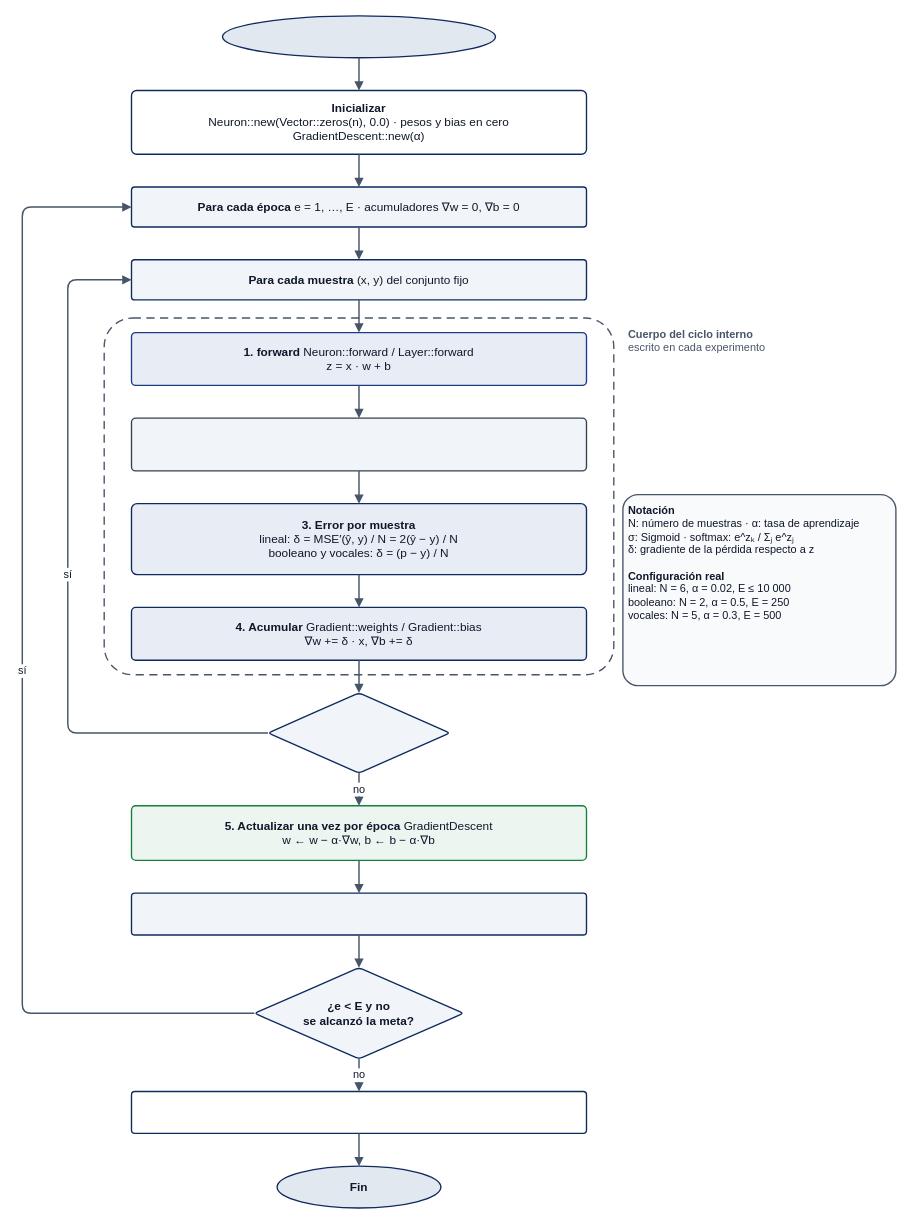
This 913x1225 diagram has some shape labels left out. The shapes that lost their labels are listed below. From the top down, each one's centre as x and y in pixels, then its label:
At (358,36): "Inicio · cargo run -- <experimento>".
At (358,444): "2. Salida lineal: ŷ = z · booleano: p = σ(z) · vocales: p = softmax(z)".
At (358,732): "¿Quedan muestras?".
At (358,913): "Informar : parámetros, MSE o probabilidades por época (stdout)".
At (358,1112): "Resultado final : predicciones, clase reconocida y confianza".
